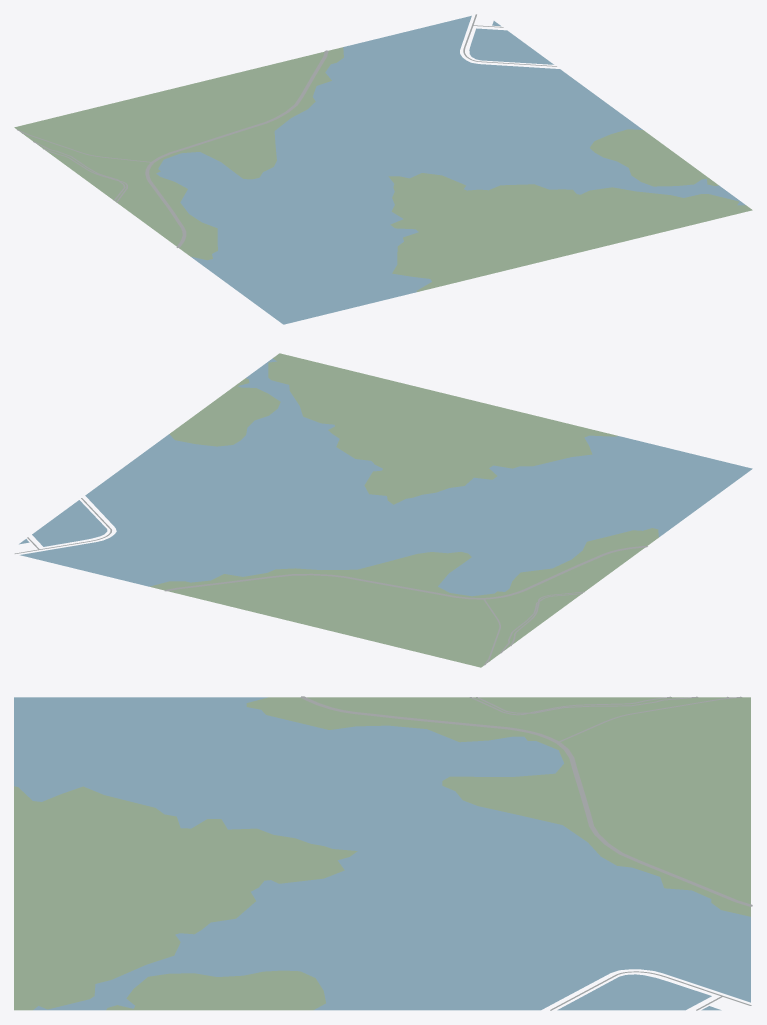
Rendered from 13_6-known-fine.glb.
3 renders of one model, top to bottom at view 1: azimuth 30°, elevation 25°; view 2: azimuth 150°, elevation 25°; view 3: azimuth 270°, elevation 25°, orthographic. The views are drawn at different scales.
Size of the model in its own units: 1004 by 0.1 by 998.
